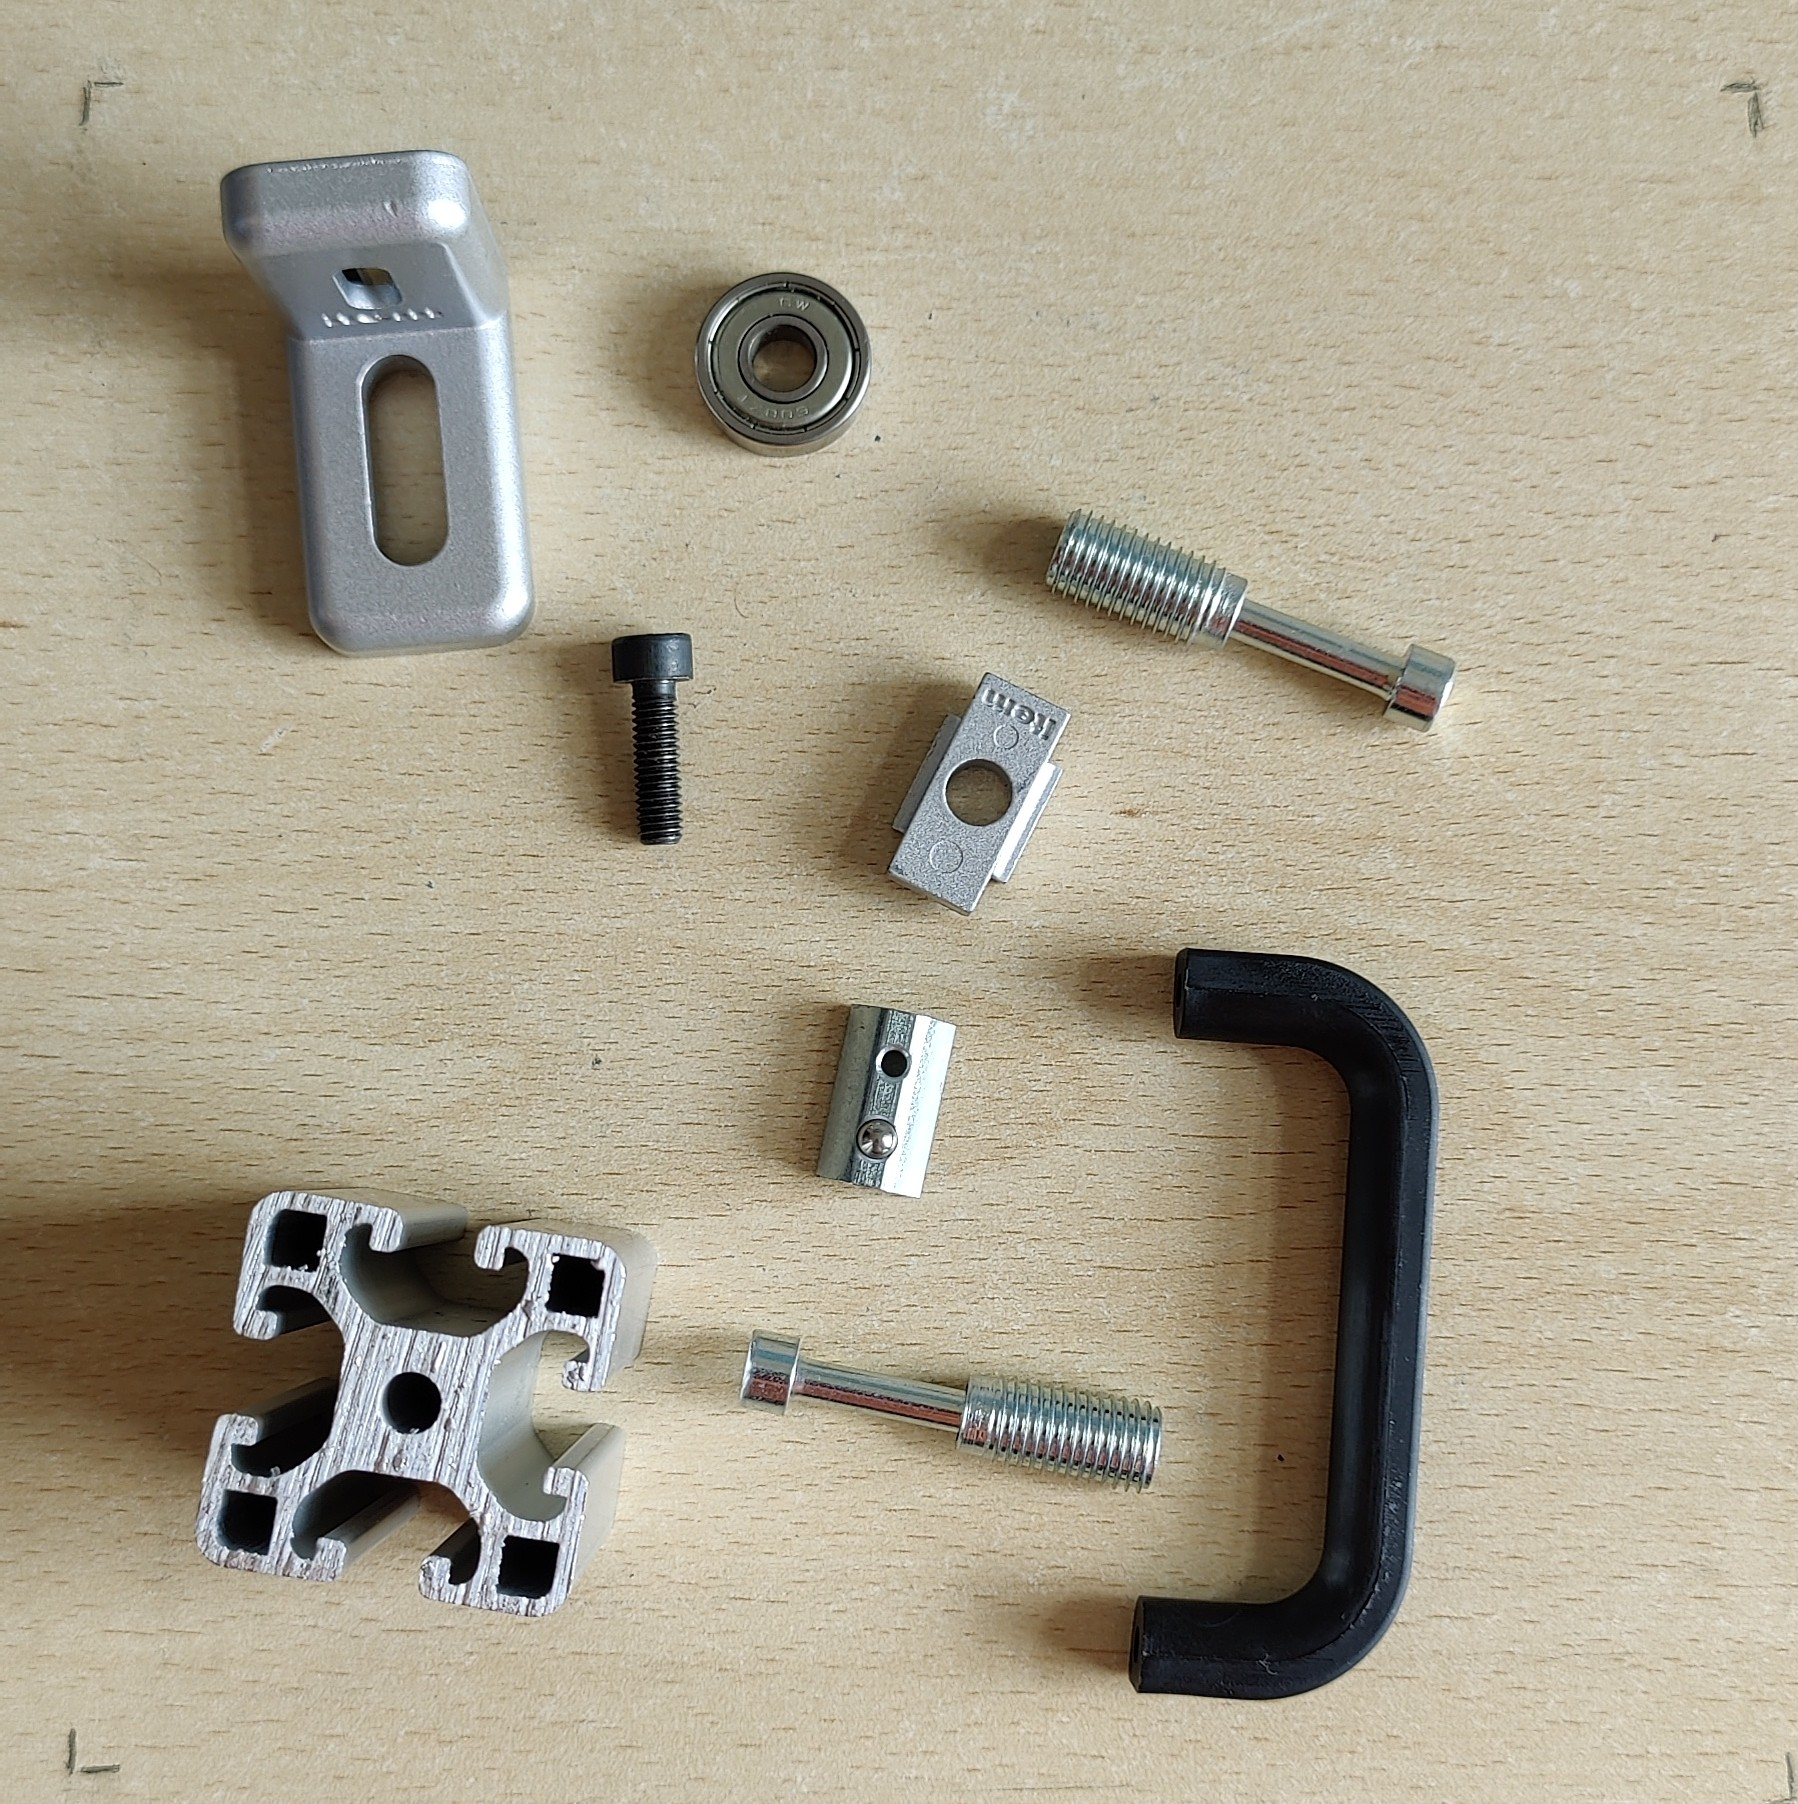Aluminium Extension: (194, 1187, 655, 1618)
Ball Bearing: (693, 268, 873, 459)
Multiwinkel: (217, 146, 537, 662)
Pull Handle: (1126, 945, 1442, 1704)
Shoulder Socket Head Cap Screw: (1037, 505, 1462, 737), (734, 1327, 1166, 1496)
Socket Head Cap Screw: (609, 629, 700, 848)
T Nut Square: (884, 672, 1072, 918)
T Spring Nut: (810, 1001, 958, 1203)
